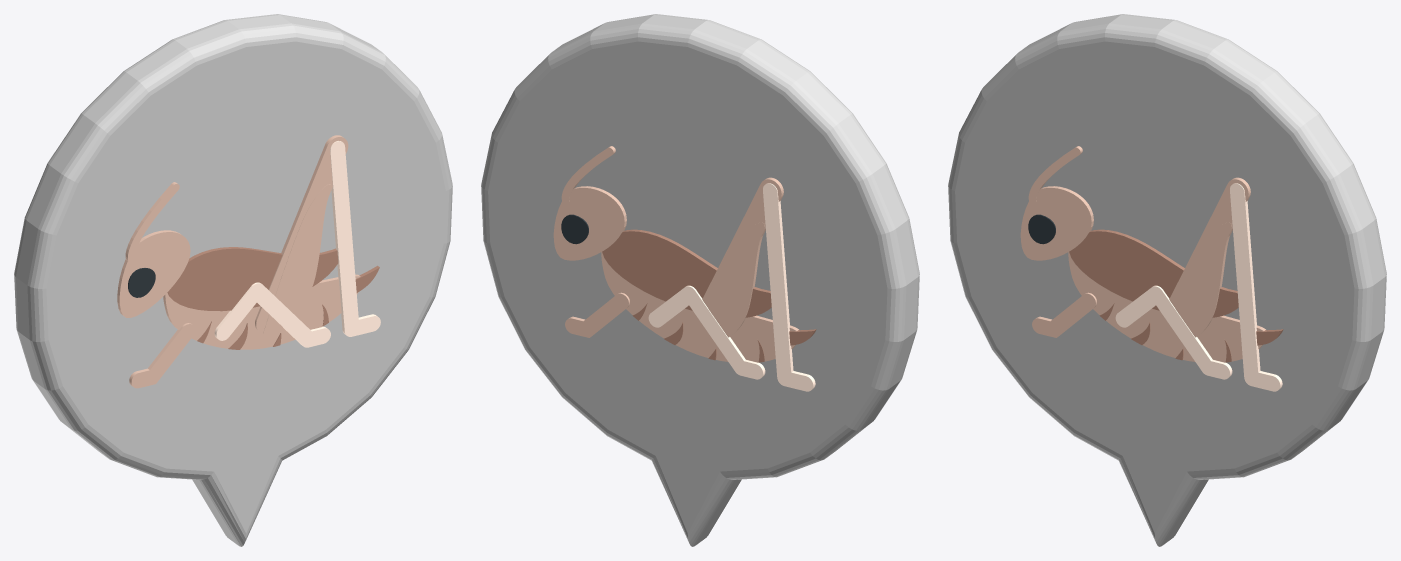
The model's file is cricket.glb.
3 views of the same model, side by side, from view 1: azimuth 30°, elevation 25°; view 2: azimuth 150°, elevation 25°; view 3: azimuth 330°, elevation 25° (orthographic).
Visible parts, largest first — view 1: EmotionBubble; view 2: EmotionBubble; view 3: EmotionBubble.
Boxes of the visible parts, <box> form: EmotionBubble: <box>14,14,452,546</box>; EmotionBubble: <box>481,14,919,546</box>; EmotionBubble: <box>948,14,1386,546</box>.
Bounding box in the file's own units: 5.29 × 6.16 × 0.754.
